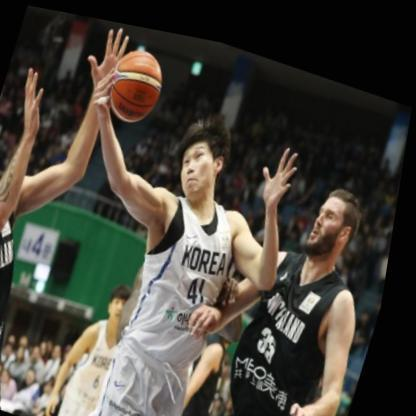basketball: (104, 38, 171, 123)
